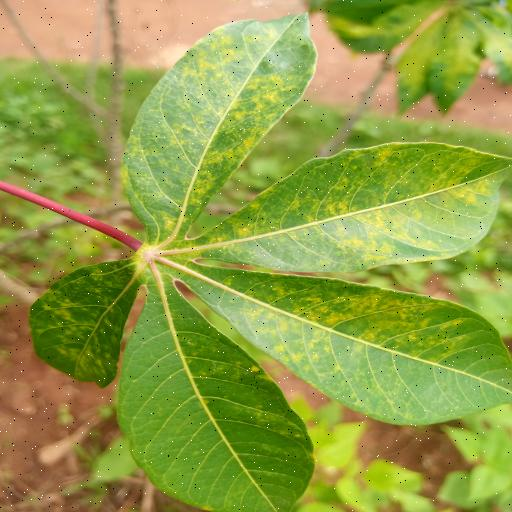Cassava_Mosaic: (24, 10, 512, 512)
